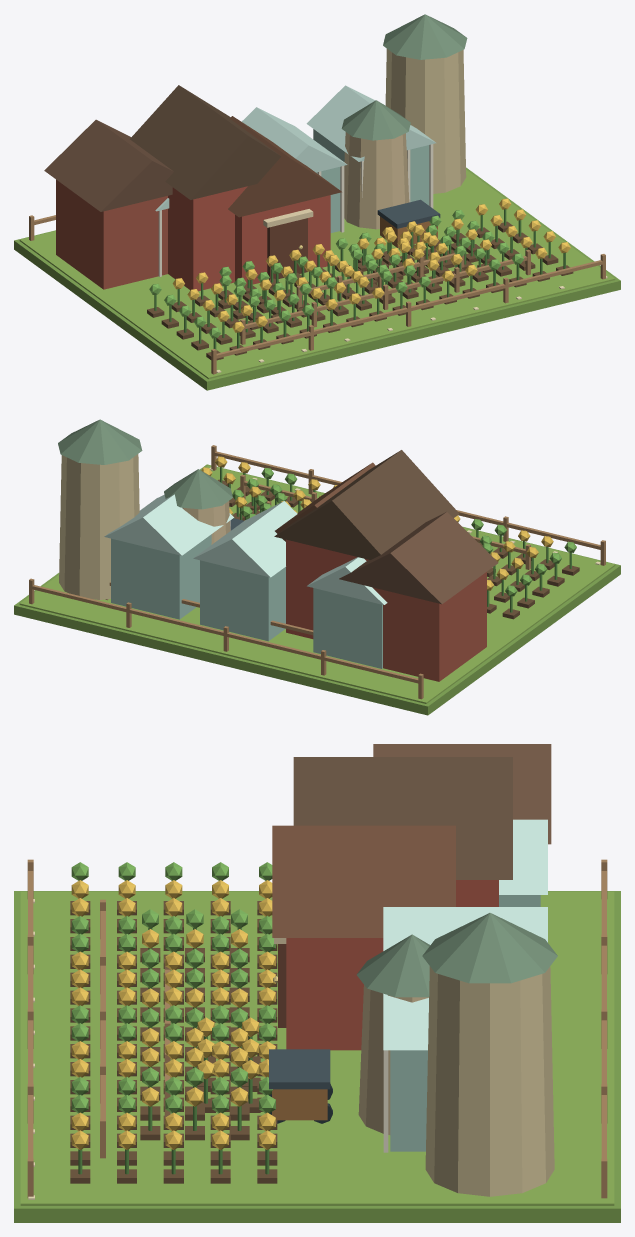
The model's file is farm-lv3.obj.
3 views of the same model, one above another, from view 1: azimuth 30°, elevation 25°; view 2: azimuth 150°, elevation 25°; view 3: azimuth 270°, elevation 25° (orthographic). The views are drawn at different scales.
Parts seen in each view (by area): view 1: farm_1, farm_3, farm_12, farm_24, farm_0, farm_8, farm_22, farm_25, farm_10, farm_11, farm_13, farm_15 (+9 smaller); view 2: farm_1, farm_19, farm_12, farm_20, farm_22, farm_24, farm_0, farm_25, farm_11, farm_3, farm_23, farm_8 (+6 smaller); view 3: farm_1, farm_22, farm_4, farm_12, farm_10, farm_0, farm_15, farm_8, farm_3, farm_20, farm_11, farm_23 (+8 smaller).
Boxes of the visible parts, x1,y1,x2,y2 form: farm_1: (19, 169, 615, 379); farm_3: (168, 186, 330, 291); farm_12: (130, 85, 281, 199); farm_24: (56, 179, 167, 289); farm_0: (14, 167, 620, 390); farm_8: (147, 221, 573, 360); farm_22: (385, 49, 466, 193); farm_25: (44, 119, 173, 211); farm_10: (172, 198, 570, 332); farm_11: (29, 215, 605, 374); farm_13: (344, 132, 409, 229); farm_15: (149, 210, 523, 338); farm_1: (19, 465, 615, 703); farm_19: (111, 534, 382, 668); farm_12: (274, 450, 459, 559); farm_20: (104, 494, 387, 604); farm_22: (59, 454, 139, 599); farm_24: (372, 572, 486, 681); farm_0: (14, 464, 620, 715); farm_25: (339, 512, 498, 604); farm_11: (29, 445, 605, 699); farm_3: (286, 539, 368, 638); farm_23: (58, 419, 142, 464); farm_8: (218, 479, 579, 619); farm_1: (20, 891, 614, 1205); farm_22: (425, 966, 554, 1196); farm_4: (272, 825, 455, 937); farm_12: (293, 757, 512, 879); farm_10: (71, 880, 275, 1149); farm_0: (14, 891, 620, 1222); farm_15: (71, 862, 275, 1113); farm_8: (70, 901, 277, 1183); farm_3: (286, 880, 498, 1050); farm_20: (383, 819, 547, 1050); farm_11: (27, 859, 607, 1198); farm_23: (422, 913, 557, 983).
Size of the model in its own units: 6.75 by 2.73 by 5.45.
